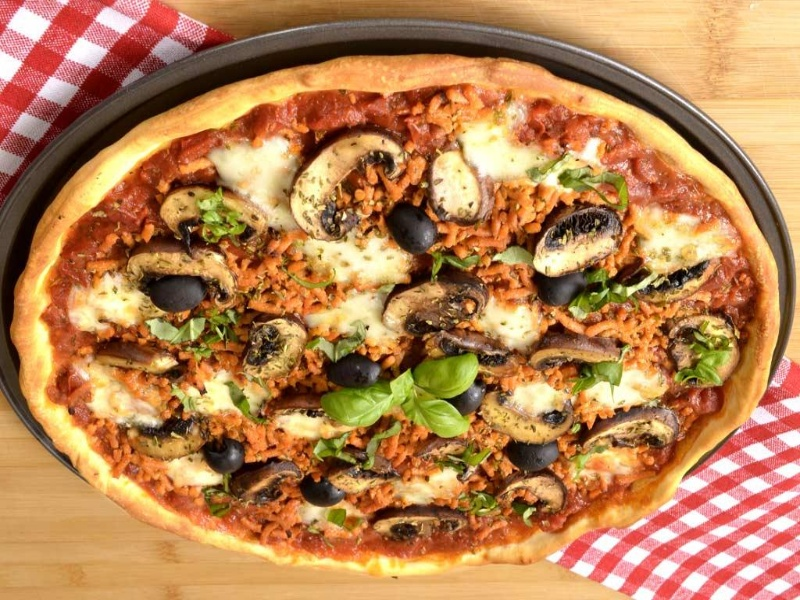champignon: (286, 129, 412, 241), (155, 181, 279, 254), (380, 273, 500, 342), (473, 380, 581, 446), (533, 209, 623, 277), (371, 499, 469, 548), (235, 318, 311, 379), (122, 415, 219, 462)
olive: (385, 199, 447, 261), (311, 349, 390, 392), (500, 432, 575, 475), (142, 272, 212, 316), (522, 269, 596, 310), (443, 376, 493, 422), (196, 434, 250, 476), (295, 471, 353, 509)
